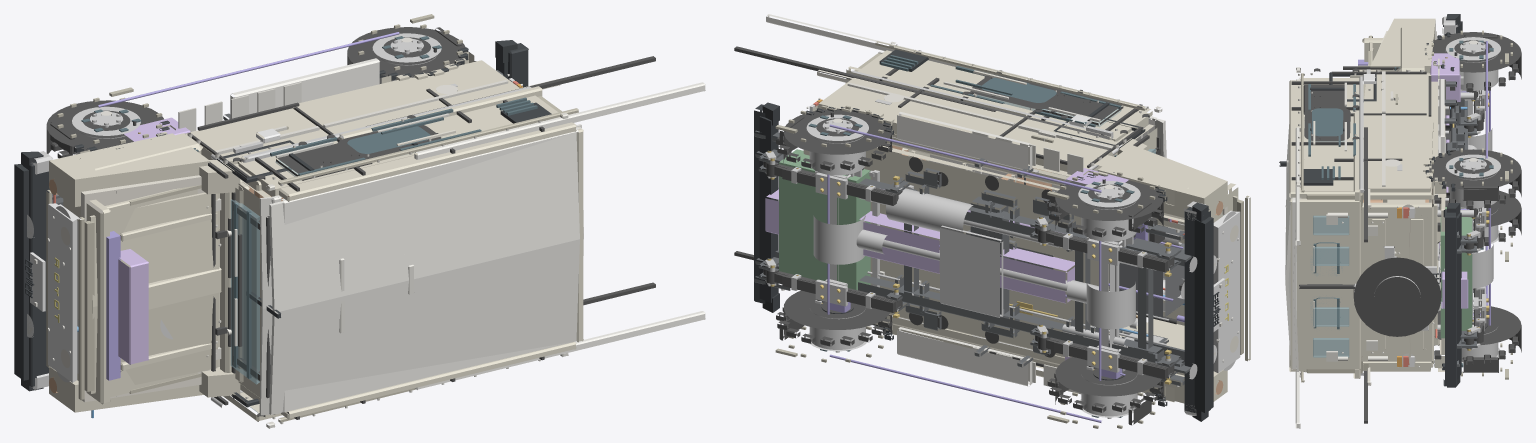
File: j40_full_vehicle_scaffold_rev_c_lhd_review.gltf
The picture shows the model from 3 angles, left to right: view 1: azimuth 30°, elevation 25°; view 2: azimuth 150°, elevation 25°; view 3: azimuth 270°, elevation 25°; orthographic projection. The views are drawn at different scales.
Visible parts, largest first — view 1: white_hardtop_crowned_roof_skin, hood_crowned_closed_skin, white_hardtop_roof, right_rear_quarter_waist_tapered_surface, right_front_fender_sloped_outer_skin, front_grille_inset_rounded_surround_surface, windshield_raked_glass_surface, right_hardtop_side_panel, fan_radiator_clearance_envelope, right_door_outer_skin_tapered_surface, front_bumper_swept_main_face, right_hardtop_side_tapered_upper_skin (+39 smaller); view 2: floor_pan, rear_underfloor_fuel_tank, skid_plate_transfer_case, right_rear_quarter_waist_tapered_surface, front_bumper_swept_main_face, right_side_step_board, left_side_step_board, left_frame_rail, front_grille_inset_rounded_surround_surface, right_front_fender_sloped_outer_skin, right_hardtop_side_tapered_upper_skin, rear_prop_shaft_clearance_tunnel (+57 smaller); view 3: rear_hardtop_panel, rear_spare_tire, right_rear_quarter_waist_tapered_surface, tailgate_panel, right_hardtop_side_tapered_upper_skin, right_door_outer_skin_tapered_surface, rear_bumper, rear_right_tire_tire, right_front_fender_sloped_outer_skin, front_right_tire_tire, rear_underfloor_fuel_tank, right_hardtop_side_panel (+51 smaller).
Boxes of the visible parts, x1,y1,x2,y2 form: white_hardtop_crowned_roof_skin: [269, 132, 579, 414]; hood_crowned_closed_skin: [89, 192, 219, 393]; white_hardtop_roof: [281, 126, 583, 412]; right_rear_quarter_waist_tapered_surface: [293, 60, 519, 133]; right_front_fender_sloped_outer_skin: [49, 133, 210, 206]; front_grille_inset_rounded_surround_surface: [48, 203, 77, 382]; windshield_raked_glass_surface: [230, 199, 259, 384]; right_hardtop_side_panel: [279, 97, 576, 201]; fan_radiator_clearance_envelope: [118, 249, 148, 364]; right_door_outer_skin_tapered_surface: [185, 108, 328, 164]; front_bumper_swept_main_face: [14, 164, 28, 380]; right_hardtop_side_tapered_upper_skin: [238, 95, 558, 197]; floor_pan: [803, 146, 1109, 357]; rear_underfloor_fuel_tank: [779, 149, 870, 290]; skid_plate_transfer_case: [940, 225, 1003, 317]; right_rear_quarter_waist_tapered_surface: [818, 78, 1023, 138]; front_bumper_swept_main_face: [1194, 216, 1213, 412]; right_side_step_board: [897, 111, 1032, 170]; left_side_step_board: [897, 327, 1032, 386]; left_frame_rail: [858, 275, 1163, 362]; front_grille_inset_rounded_surround_surface: [1213, 211, 1240, 373]; right_front_fender_sloped_outer_skin: [1097, 145, 1227, 217]; right_hardtop_side_tapered_upper_skin: [858, 51, 1148, 141]; rear_prop_shaft_clearance_tunnel: [765, 188, 939, 273]; rear_hardtop_panel: [1289, 198, 1360, 369]; rear_spare_tire: [1353, 257, 1441, 336]; right_rear_quarter_waist_tapered_surface: [1363, 114, 1433, 192]; tailgate_panel: [1361, 202, 1433, 361]; right_hardtop_side_tapered_upper_skin: [1303, 78, 1363, 199]; right_door_outer_skin_tapered_surface: [1363, 73, 1430, 114]; rear_bumper: [1443, 209, 1456, 386]; rear_right_tire_tire: [1429, 149, 1521, 196]; right_front_fender_sloped_outer_skin: [1370, 18, 1435, 73]; front_right_tire_tire: [1432, 32, 1521, 79]; rear_underfloor_fuel_tank: [1440, 207, 1472, 338]; right_hardtop_side_panel: [1289, 80, 1354, 197].
Bounding box in the file's own units: 4.47 × 1.96 × 1.99.
